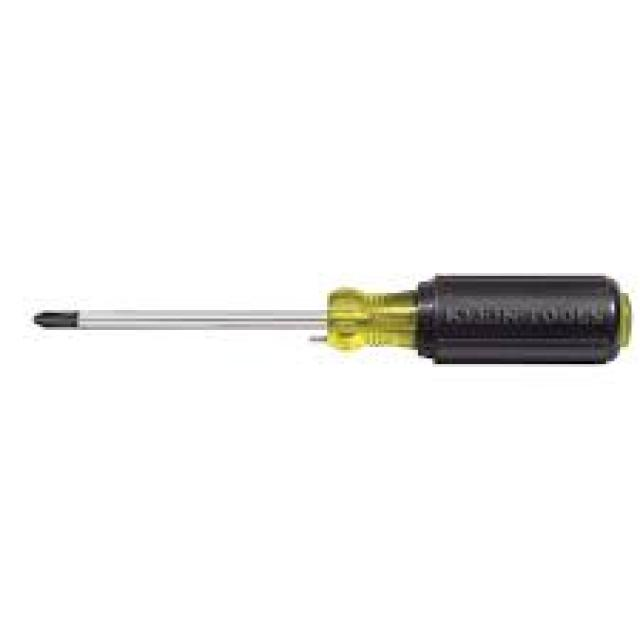screw driver: (10, 243, 640, 422)
